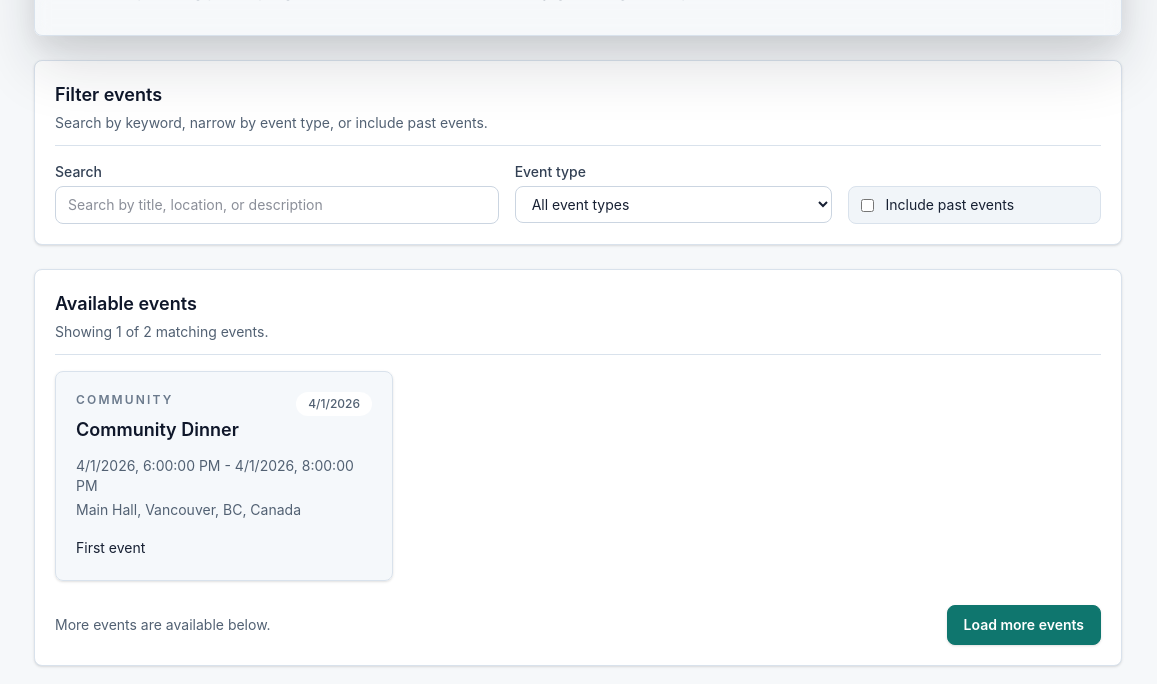
PublicEventsPage › loads public events and supports load-more pagination
(page scrolled)
Expected: the heading "Community Dinner" is shown, 76,416 -> 239,444
Click the button "Load more events".
click(1024, 625)  # box 947,605 -> 1101,645
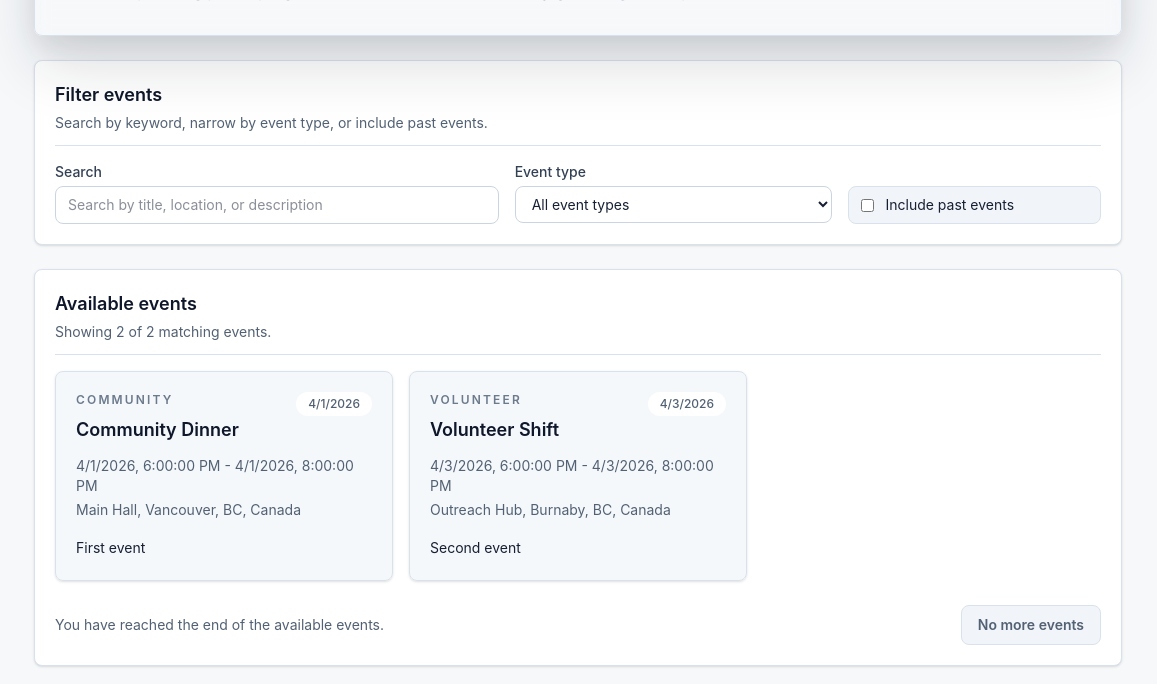
Now the heading "Volunteer Shift" is shown, box 430,416 -> 559,444
